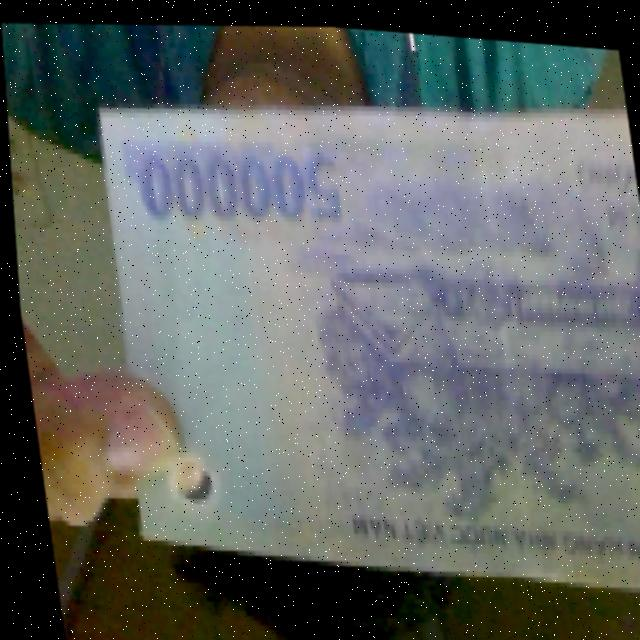500 000 VND: (72, 56, 640, 636)
